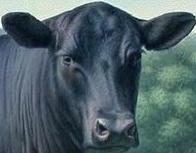muzzles: (84, 115, 140, 152)
